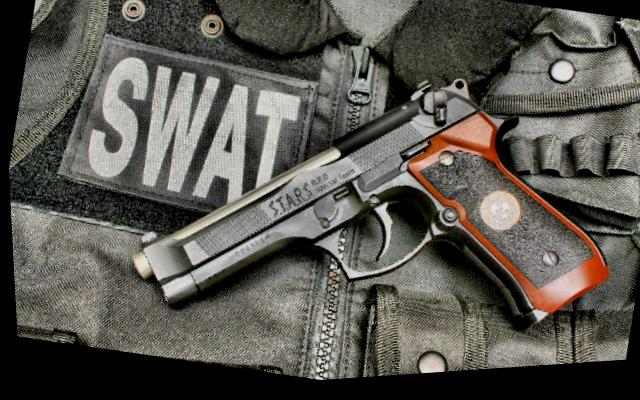pistol: (109, 9, 640, 394)
